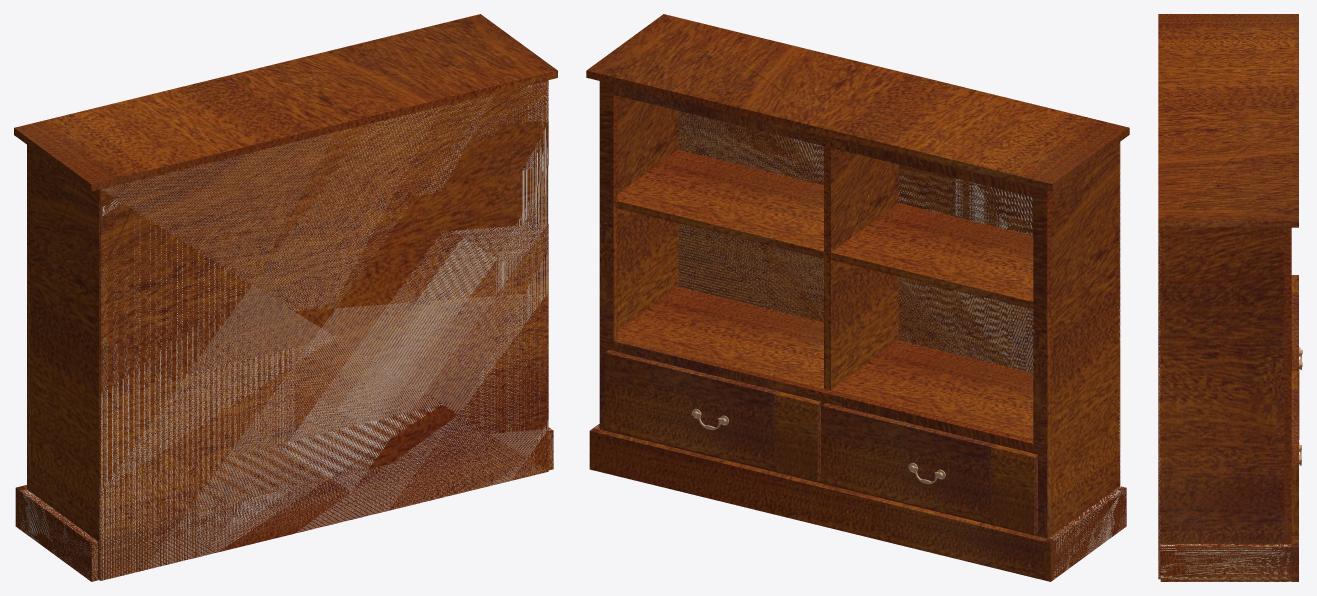
The picture shows the model from 3 angles, left to right: view 1: azimuth 30°, elevation 25°; view 2: azimuth 150°, elevation 25°; view 3: azimuth 270°, elevation 25°; orthographic projection. The views are drawn at different scales.
Visible parts, largest first — view 1: mesh24_mesh24-geometry, mesh15_mesh15-geometry, mesh1_mesh1-geometry, mesh23_mesh23-geometry, mesh5_mesh5-geometry; view 2: mesh3_mesh3-geometry, mesh1_mesh1-geometry, mesh15_mesh15-geometry, mesh13_mesh13-geometry, mesh24_mesh24-geometry, mesh11_mesh11-geometry, mesh5_mesh5-geometry, mesh7_mesh7-geometry, mesh23_mesh23-geometry; view 3: mesh1_mesh1-geometry, mesh15_mesh15-geometry, mesh24_mesh24-geometry, mesh5_mesh5-geometry, mesh13_mesh13-geometry, mesh11_mesh11-geometry.
Part boxes in pixels (bbox=[...]): mesh24_mesh24-geometry: bbox=[99, 80, 553, 580]; mesh15_mesh15-geometry: bbox=[14, 14, 557, 191]; mesh1_mesh1-geometry: bbox=[31, 148, 99, 579]; mesh23_mesh23-geometry: bbox=[19, 489, 98, 581]; mesh5_mesh5-geometry: bbox=[27, 145, 30, 491]; mesh3_mesh3-geometry: bbox=[617, 149, 1033, 439]; mesh1_mesh1-geometry: bbox=[617, 96, 1119, 535]; mesh15_mesh15-geometry: bbox=[586, 14, 1129, 191]; mesh13_mesh13-geometry: bbox=[605, 350, 1037, 534]; mesh24_mesh24-geometry: bbox=[594, 111, 1120, 485]; mesh11_mesh11-geometry: bbox=[589, 428, 1054, 581]; mesh5_mesh5-geometry: bbox=[599, 81, 1051, 538]; mesh7_mesh7-geometry: bbox=[613, 84, 1033, 534]; mesh23_mesh23-geometry: bbox=[1048, 486, 1126, 578]; mesh1_mesh1-geometry: bbox=[1160, 227, 1284, 543]; mesh15_mesh15-geometry: bbox=[1158, 14, 1298, 227]; mesh24_mesh24-geometry: bbox=[1158, 227, 1291, 581]; mesh5_mesh5-geometry: bbox=[1284, 227, 1291, 543]; mesh13_mesh13-geometry: bbox=[1291, 275, 1299, 535]; mesh11_mesh11-geometry: bbox=[1291, 536, 1298, 581].
Size of the model in its own units: 0.755 by 0.6167 by 0.2226.
